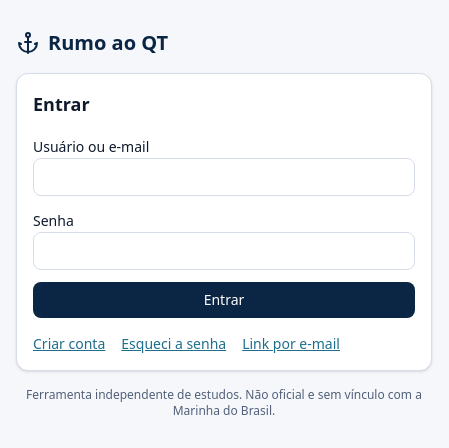
it: Auth › cadastro envia emailRedirectTo da URL do Pages
Step 1. Click the button "Criar conta" → (69, 344), box x1=33 y1=334 x2=105 y2=354
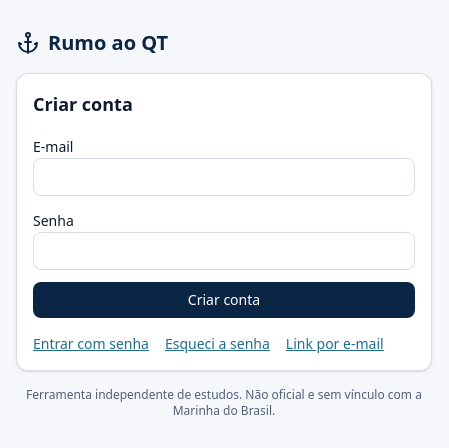
Step 2. Type "novo@b.com" into the field labelled "E-mail" → (224, 177), box x1=33 y1=158 x2=415 y2=196
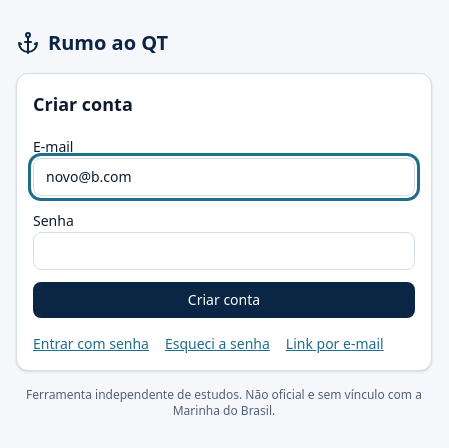
Step 3. Type "senha-segura-1" into the password field labelled "Senha" → (224, 251), box x1=33 y1=232 x2=415 y2=270
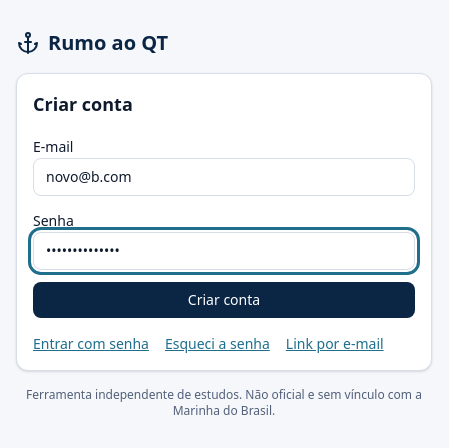
Step 4. Click the button "Criar conta" → (224, 300), box x1=33 y1=282 x2=415 y2=318
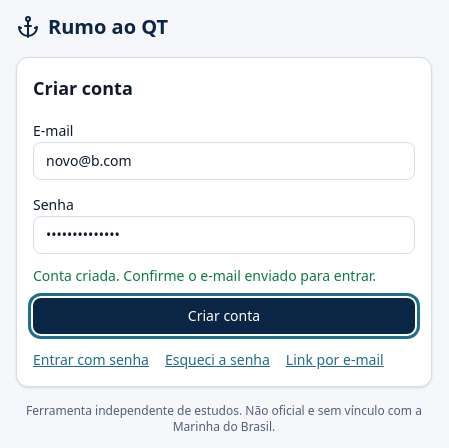
Expected: the message shows "Confirme o e-mail", x1=33 y1=266 x2=376 y2=285
